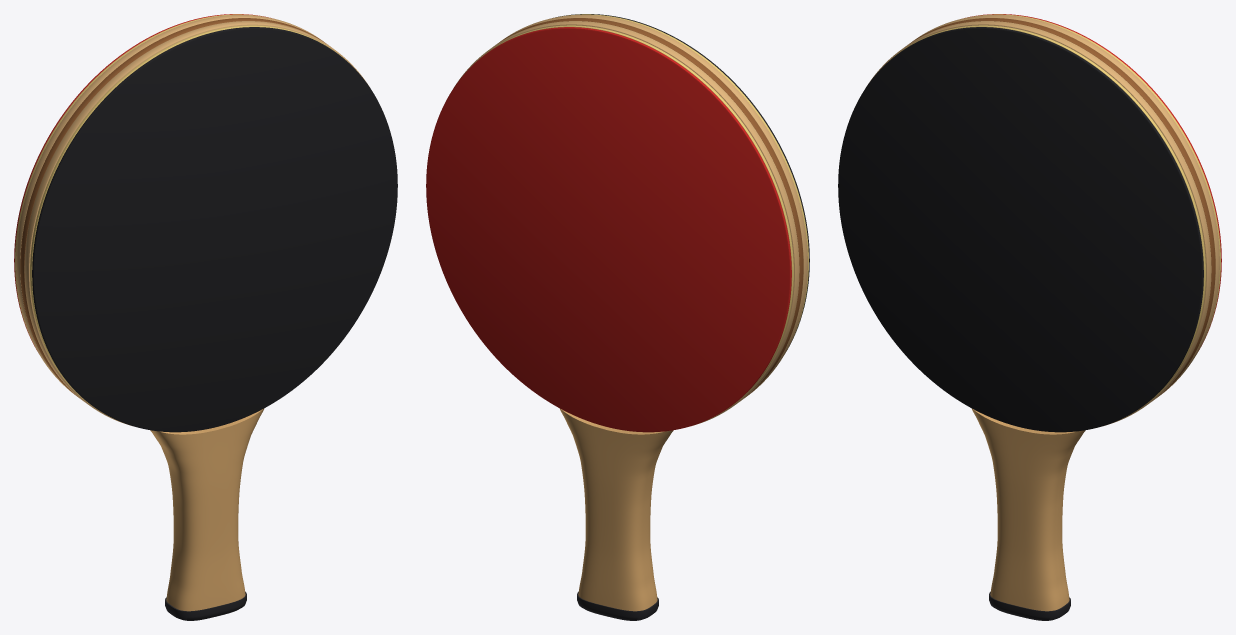
File: NotPongPaddle_v3.fbx
The picture shows the model from 3 angles, left to right: view 1: azimuth 30°, elevation 25°; view 2: azimuth 150°, elevation 25°; view 3: azimuth 330°, elevation 25°; orthographic projection.
Parts seen in each view (by area): view 1: NPP_BackRubber, NPP_Handle, NPP_WoodBlade, NPP_WoodCore, NPP_Sponge, NPP_EndCap, NPP_FrontRubber; view 2: NPP_FrontRubber, NPP_Handle, NPP_WoodBlade, NPP_WoodCore, NPP_Sponge, NPP_EndCap, NPP_BackRubber; view 3: NPP_BackRubber, NPP_Handle, NPP_WoodBlade, NPP_WoodCore, NPP_Sponge, NPP_EndCap, NPP_FrontRubber.
Part boxes in pixels (x1,y1,x2,y2): NPP_BackRubber: (32, 27, 397, 432); NPP_Handle: (150, 408, 264, 611); NPP_WoodBlade: (16, 15, 369, 425); NPP_WoodCore: (20, 18, 324, 398); NPP_Sponge: (15, 14, 357, 418); NPP_EndCap: (165, 592, 246, 620); NPP_FrontRubber: (14, 14, 270, 349); NPP_FrontRubber: (426, 27, 791, 432); NPP_Handle: (559, 408, 673, 611); NPP_WoodBlade: (454, 15, 807, 425); NPP_WoodCore: (499, 18, 803, 398); NPP_Sponge: (466, 14, 808, 418); NPP_EndCap: (577, 592, 658, 620); NPP_BackRubber: (553, 14, 809, 349); NPP_BackRubber: (838, 27, 1203, 432); NPP_Handle: (971, 408, 1085, 611); NPP_WoodBlade: (866, 15, 1219, 425); NPP_WoodCore: (911, 18, 1215, 398); NPP_Sponge: (878, 14, 1220, 418); NPP_EndCap: (989, 592, 1070, 620); NPP_FrontRubber: (965, 14, 1221, 349).
Size of the model in its own units: 416 by 632 by 49.68.
